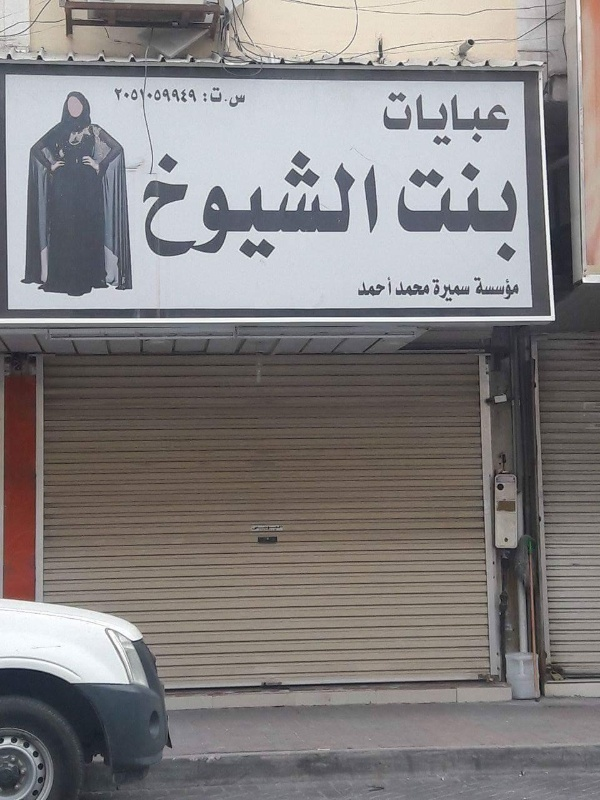text: (145, 149, 160, 262), (161, 149, 176, 262), (177, 149, 192, 262), (193, 149, 208, 262), (209, 149, 224, 262), (225, 149, 240, 262), (241, 149, 256, 262), (257, 149, 272, 262), (273, 149, 288, 262), (289, 149, 304, 262), (305, 149, 320, 262), (321, 149, 336, 262), (337, 149, 352, 262), (353, 149, 368, 262), (401, 160, 416, 264), (417, 160, 432, 264), (433, 160, 448, 264), (449, 160, 464, 264), (465, 160, 480, 264), (481, 160, 496, 264), (497, 160, 512, 264), (369, 149, 382, 262), (385, 91, 400, 147), (401, 91, 416, 147), (417, 91, 432, 147), (433, 91, 448, 147), (449, 91, 464, 147), (465, 91, 480, 147), (481, 91, 496, 147), (497, 91, 511, 147), (513, 160, 520, 264), (395, 160, 400, 264), (481, 276, 496, 302), (497, 276, 512, 302), (449, 278, 464, 302), (434, 278, 448, 302), (209, 86, 224, 108), (225, 86, 240, 108), (369, 276, 384, 298), (129, 87, 144, 104), (145, 87, 160, 104), (161, 87, 176, 104), (177, 87, 192, 104), (357, 276, 368, 298), (401, 281, 416, 297), (114, 87, 128, 104), (142, 149, 144, 262), (417, 281, 431, 297), (513, 276, 521, 302), (474, 276, 480, 302), (385, 276, 392, 298), (465, 278, 471, 302), (202, 86, 208, 108), (241, 86, 247, 108), (257, 524, 272, 531), (193, 87, 199, 104), (273, 524, 284, 531), (396, 281, 400, 297), (383, 91, 384, 147), (252, 524, 256, 531)
